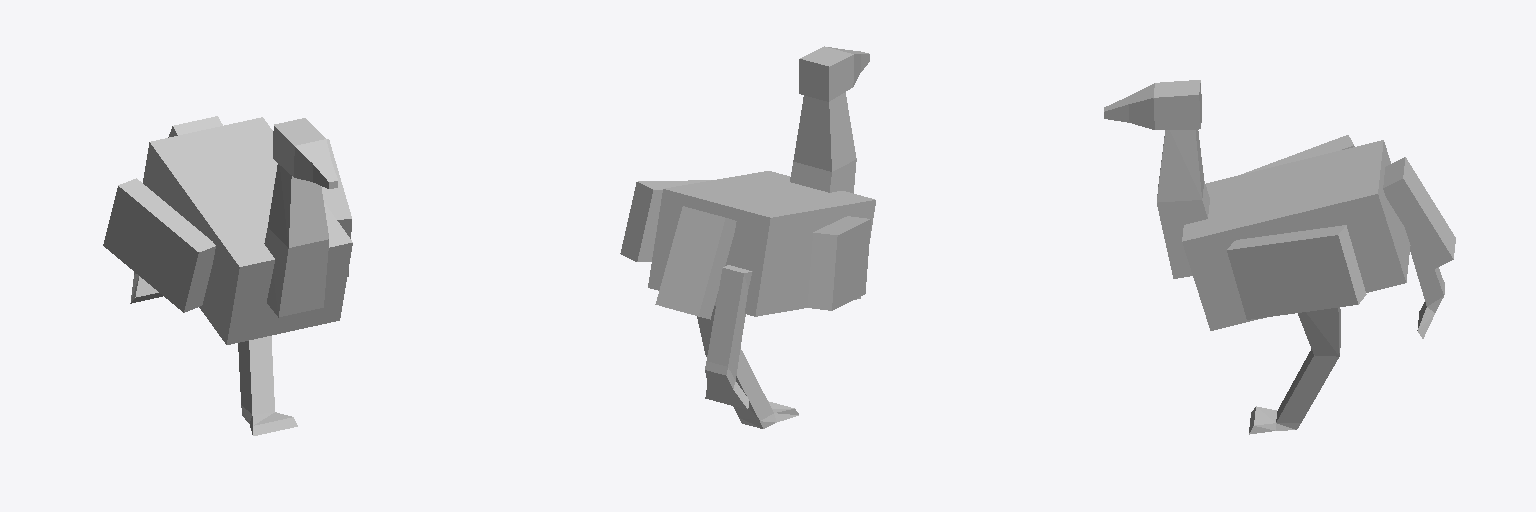
The model's file is Ostrich_000074.obj.
The picture shows the model from 3 angles: view 1: azimuth 30°, elevation 25°; view 2: azimuth 150°, elevation 25°; view 3: azimuth 270°, elevation 25°; orthographic projection.
Parts seen in each view (by area): view 1: Cube_Cube.001; view 2: Cube_Cube.001; view 3: Cube_Cube.001.
Part boxes in pixels (x1,y1,x2,y2): Cube_Cube.001: (103,116,352,435); Cube_Cube.001: (620,46,875,428); Cube_Cube.001: (1104,80,1455,434).
Size of the model in its own units: 0.9807 by 1.43 by 1.38.